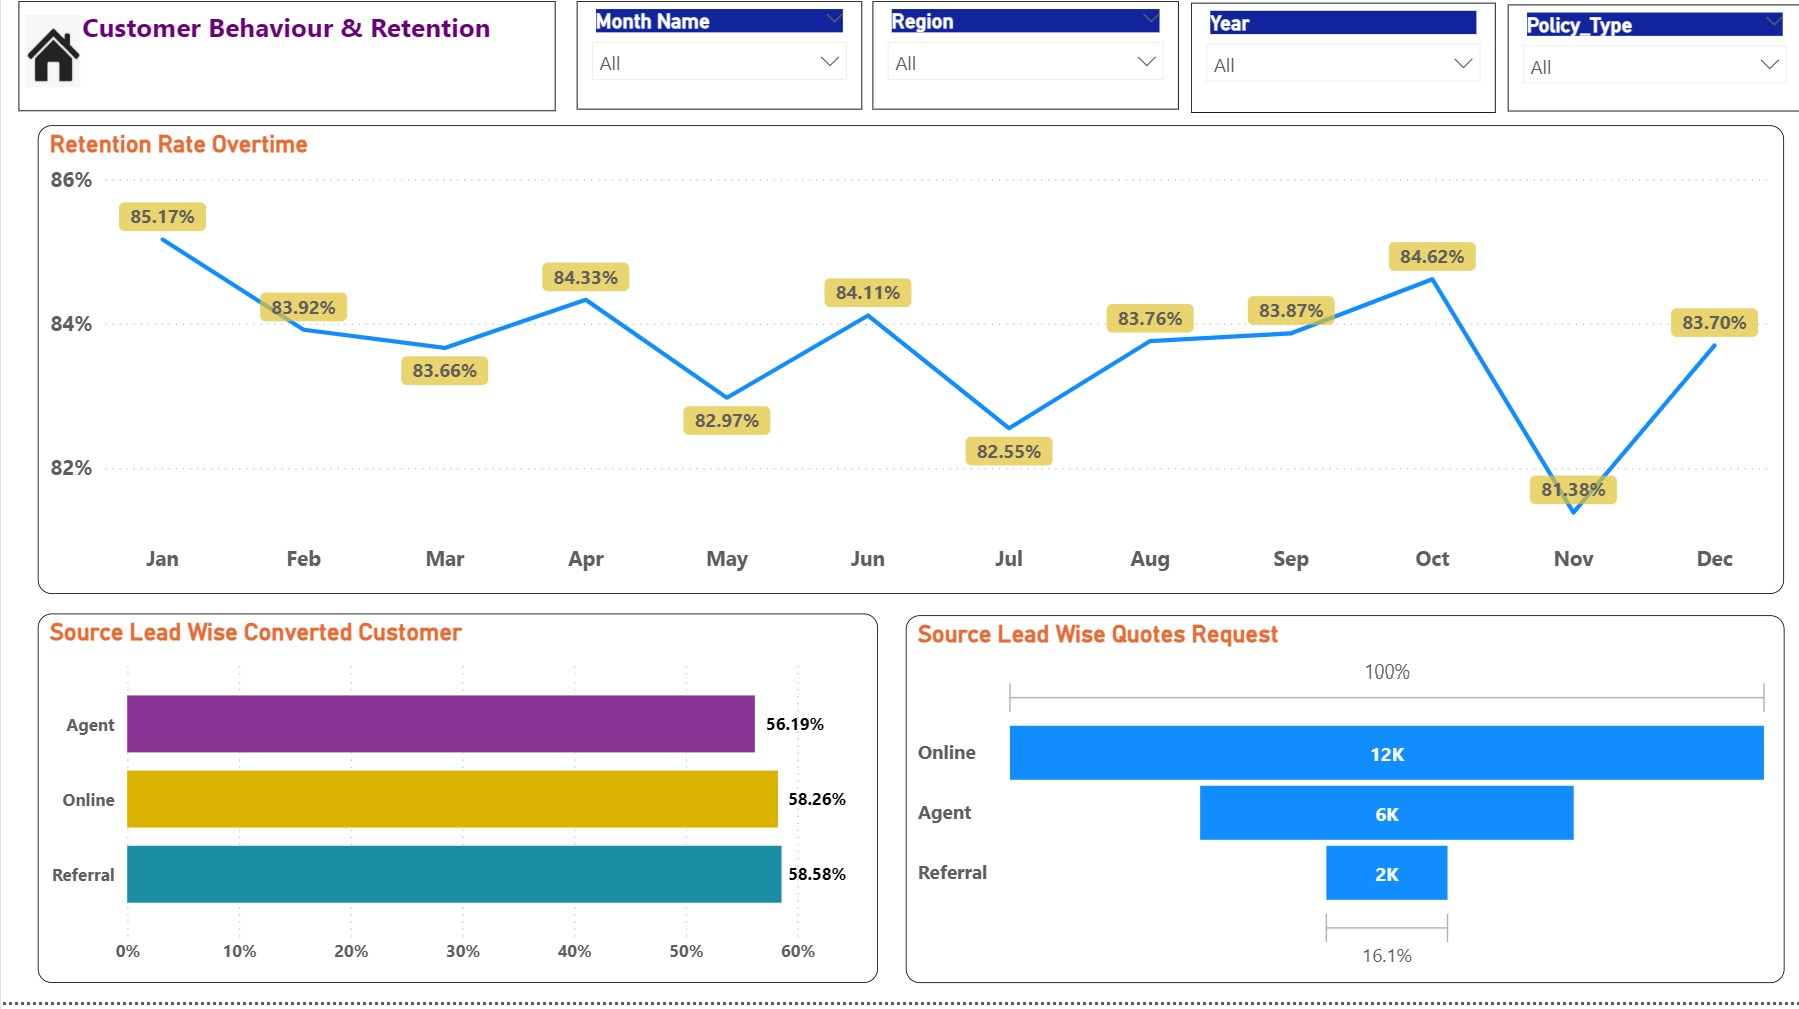

The dashboard page shown, as its layout file describes it:
{"tool":"powerbi","page":{"name":"Customer Behaviour & Retention","canvas":[1280,720],"ordinal":3},"visuals":[{"type":"image","box":[12.4,19.9,43.5,51],"z":0},{"type":"funnel","title":"Source Lead Wise Quotes Request","fields":{"Category":["synthetic_insurance_data.Source_of_Lead"],"Y":["Sum(synthetic_insurance_data.Quotes_Requested)"]},"box":[643,446.5,624.4,259.9],"z":1000},{"type":"slicer","fields":{"Values":["Calendar Table.Month Name"]},"box":[409.2,10,202.7,77.1],"z":2000},{"type":"slicer","fields":{"Values":["synthetic_insurance_data.Region"]},"box":[619.4,10,217.7,77.1],"z":3000},{"type":"textbox","box":[12.4,10,381.8,78.4],"z":4000},{"type":"barChart","title":"Source Lead Wise Converted Customer","fields":{"Category":["synthetic_insurance_data.Source_of_Lead"],"Y":["Measures1.Conversion Rate"]},"box":[26.1,445.3,597,261.2],"z":5000},{"type":"image","box":[18,19.3,38.6,51.5],"z":6000},{"type":"lineChart","title":"Retention Rate Overtime","fields":{"Y":["Measures1.Retention Rate"],"Category":["Calendar Table.Month Name"]},"box":[26.1,98.3,1241.3,333.3],"z":7000},{"type":"slicer","fields":{"Values":["Calendar Table.Year"]},"box":[845.8,11.2,216.4,78.4],"z":8000},{"type":"slicer","fields":{"Values":["synthetic_insurance_data.Policy_Type"]},"box":[1070.9,12.4,209,75.9],"z":9000}]}

Visuals, with their boxes in screenshot pixels (x1, y1, x2, y2), scaled from the page's 1280x720 canvas onto the 1799x1009 screenshot:
image: [17,28,79,99]
"Source Lead Wise Quotes Request" funnel: [904,626,1781,990]
slicer - Calendar Table.Month Name: [575,14,860,122]
slicer - synthetic_insurance_data.Region: [871,14,1177,122]
textbox: [17,14,554,124]
"Source Lead Wise Converted Customer" barChart: [37,624,876,990]
image: [25,27,80,99]
"Retention Rate Overtime" lineChart: [37,138,1781,605]
slicer - Calendar Table.Year: [1189,16,1493,126]
slicer - synthetic_insurance_data.Policy_Type: [1505,17,1798,124]
